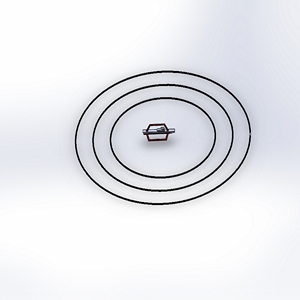circle: (69, 67, 258, 209)
submarine: (137, 117, 178, 149)
